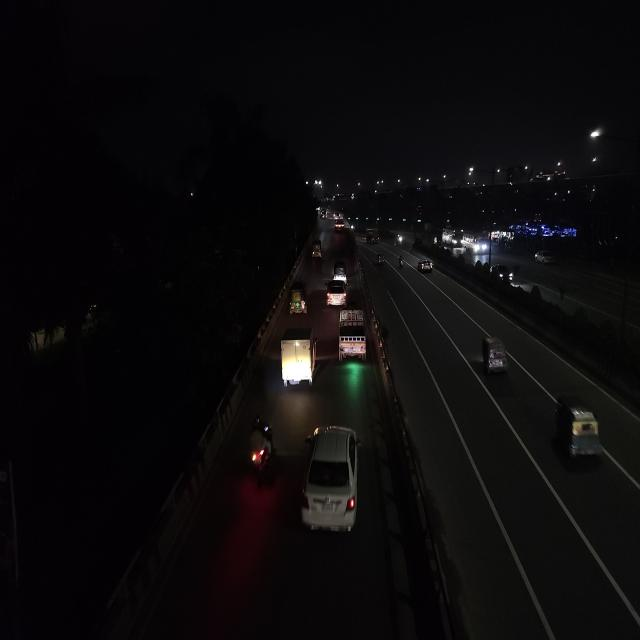bus: (462, 229, 490, 257), (441, 227, 462, 249)
car: (298, 419, 364, 546), (324, 277, 348, 307), (492, 262, 514, 285), (532, 248, 556, 266), (331, 260, 347, 280), (417, 255, 433, 274), (334, 222, 344, 234)
cng: (551, 392, 606, 467), (478, 331, 509, 382), (288, 278, 308, 317), (310, 238, 324, 262), (375, 253, 386, 267)
motorcycle: (246, 414, 275, 487), (397, 254, 405, 271)
pickup_van: (337, 305, 368, 363)
truck: (278, 322, 318, 395), (365, 229, 380, 243)
